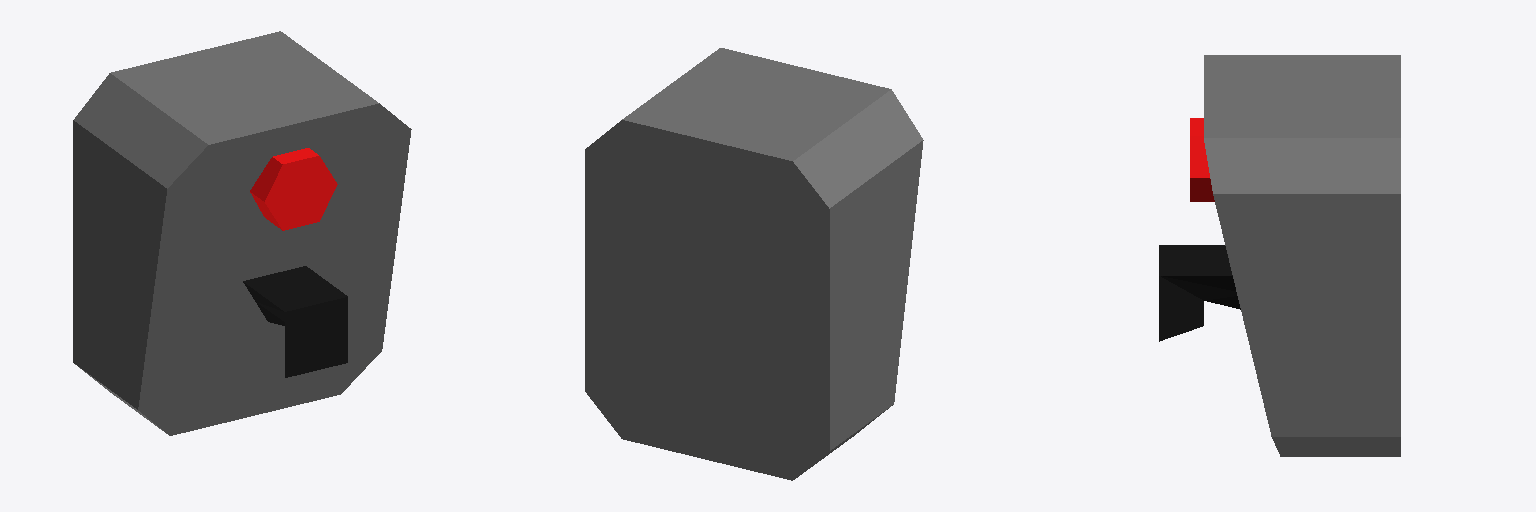
Rendered from HandDryer.obj.
3 views of the same model, side by side, from view 1: azimuth 30°, elevation 25°; view 2: azimuth 150°, elevation 25°; view 3: azimuth 270°, elevation 25° (orthographic).
Visible parts, largest first — view 1: object_2, object_1, object_3; view 2: object_2; view 3: object_2, object_1, object_3.
Part boxes in pixels (x1,y1,x2,y2): object_2: (73,31,411,435); object_1: (243,266,347,377); object_3: (250,148,337,230); object_2: (585,48,923,480); object_2: (1204,55,1400,456); object_1: (1159,245,1240,341); object_3: (1190,118,1214,201).
Size of the model in its own units: 20 by 25 by 17.18.